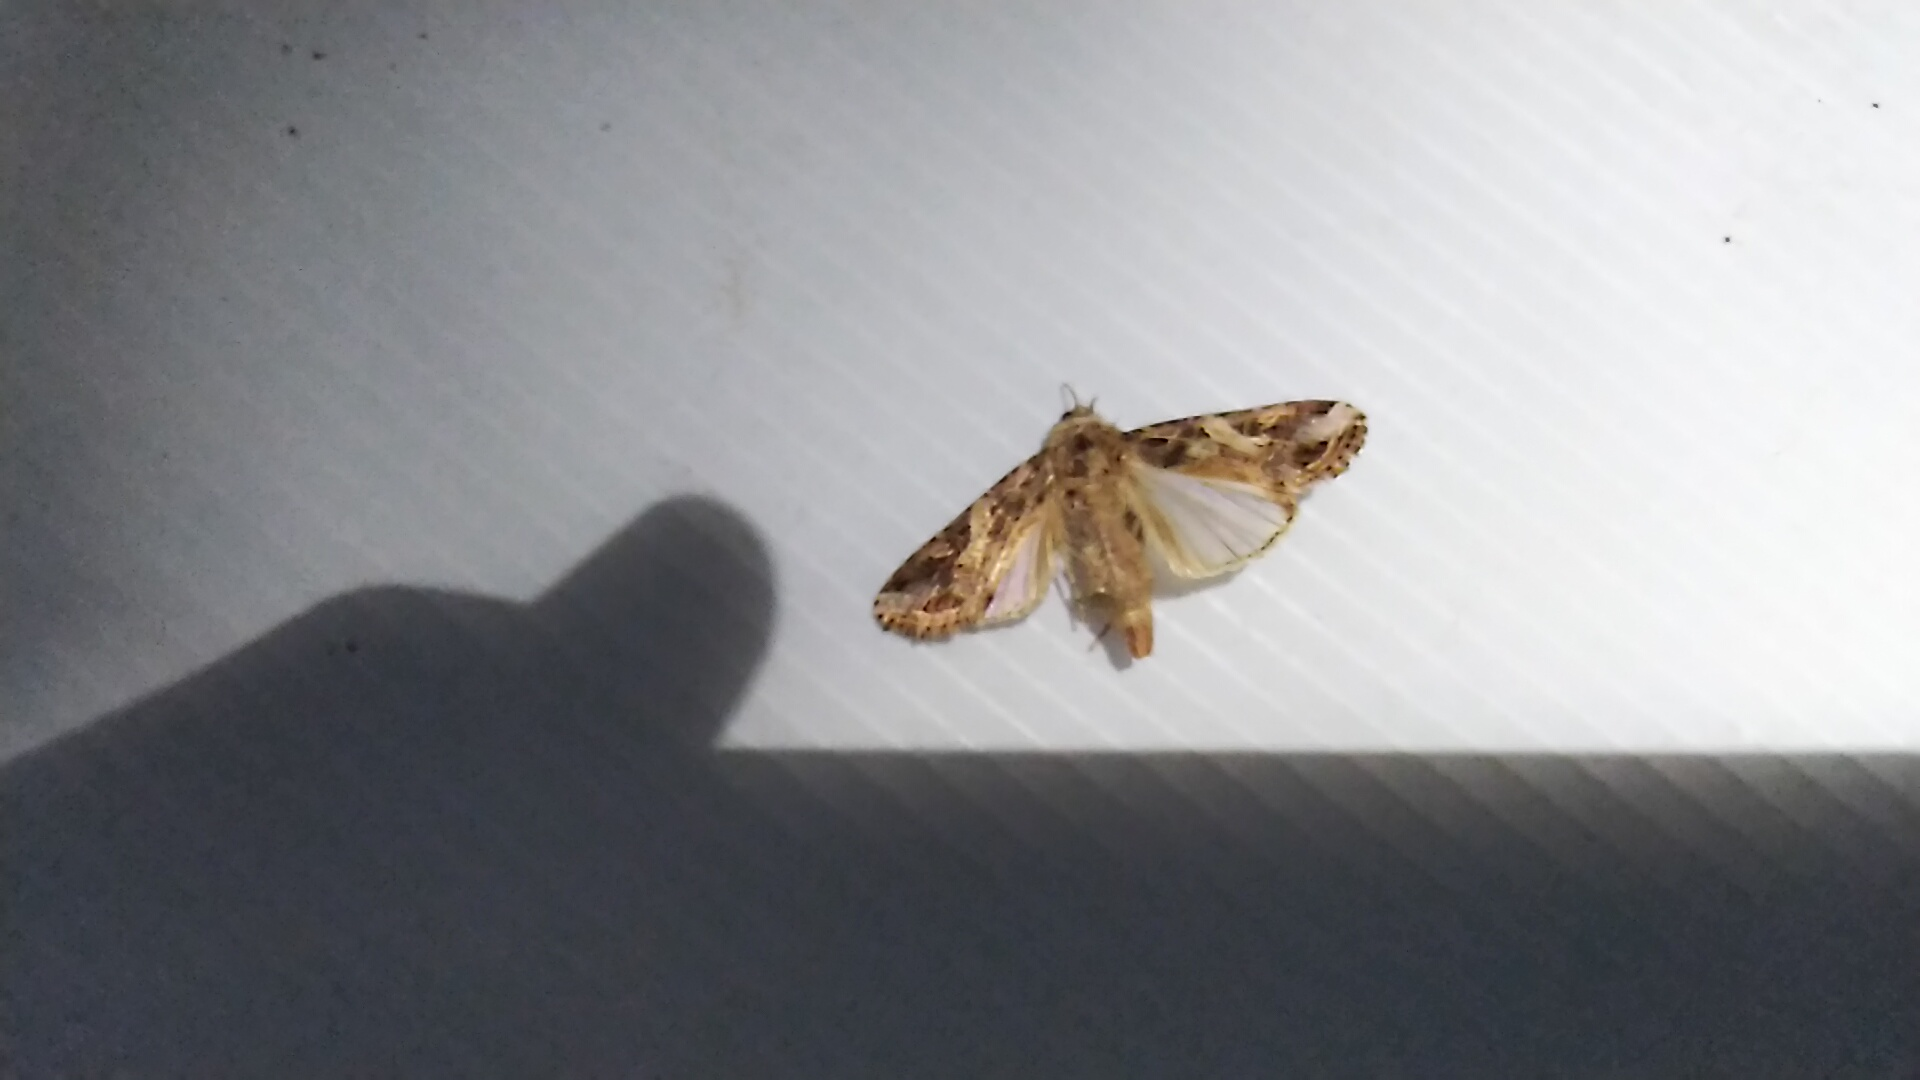INS-B: (868, 351, 1400, 673)
